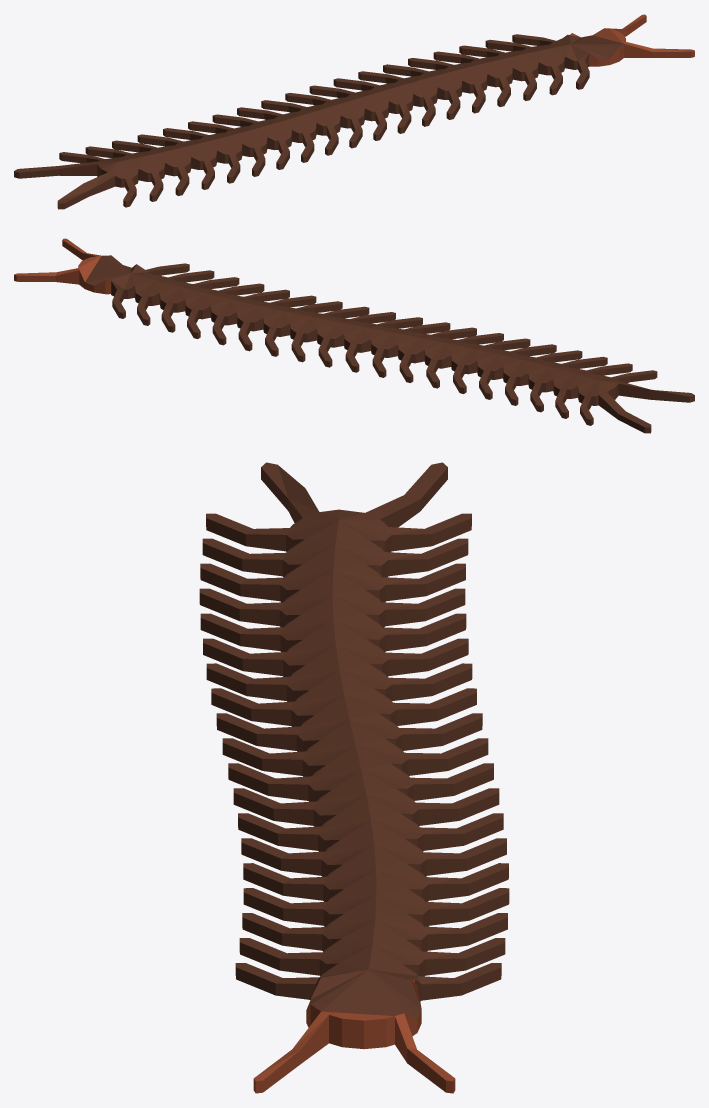
File: NEW_RECOVERY_057_LOD2.fbx
3 views of the same model, one above another, from view 1: azimuth 30°, elevation 25°; view 2: azimuth 150°, elevation 25°; view 3: azimuth 270°, elevation 25° (orthographic). The views are drawn at different scales.
Visible parts, largest first — view 1: Centipede_Whole; view 2: Centipede_Whole; view 3: Centipede_Whole.
Part boxes in pixels (x1,y1,x2,y2): Centipede_Whole: (14, 14, 694, 209); Centipede_Whole: (14, 238, 694, 433); Centipede_Whole: (199, 462, 509, 1093).
Bounding box in the file's own units: 1067 × 225 × 24.51.
